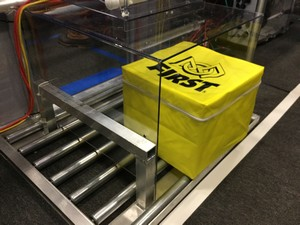cube: (125, 40, 264, 177)
